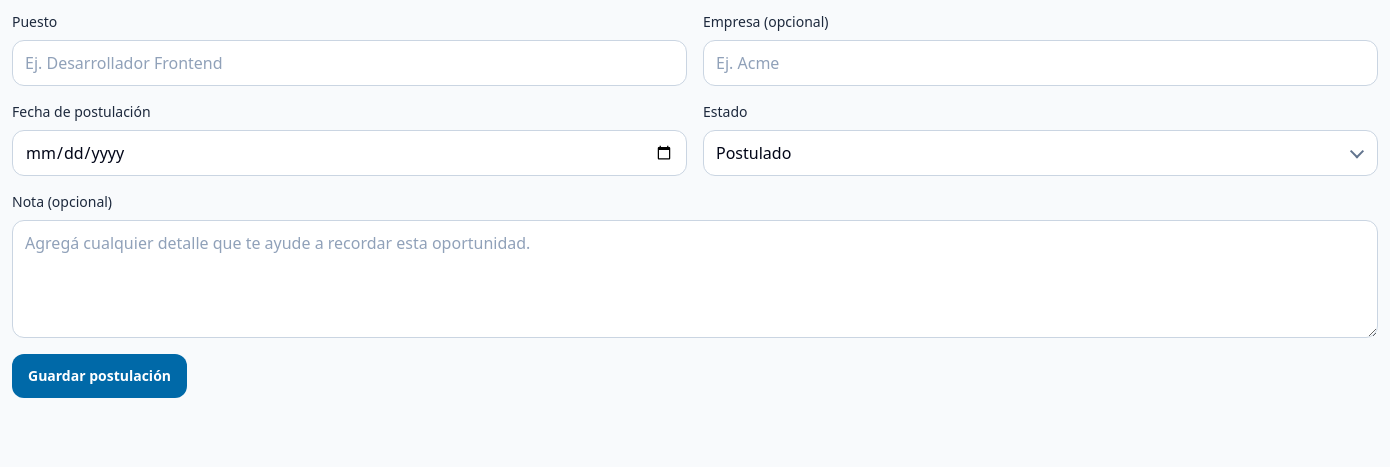
Test: ApplicationForm › communicates duplicate applications in Spanish after valid input
Type "Desarrollador Frontend" into the field labelled "Puesto" at (350, 63), box top-left (12, 40), bottom-right (687, 86)
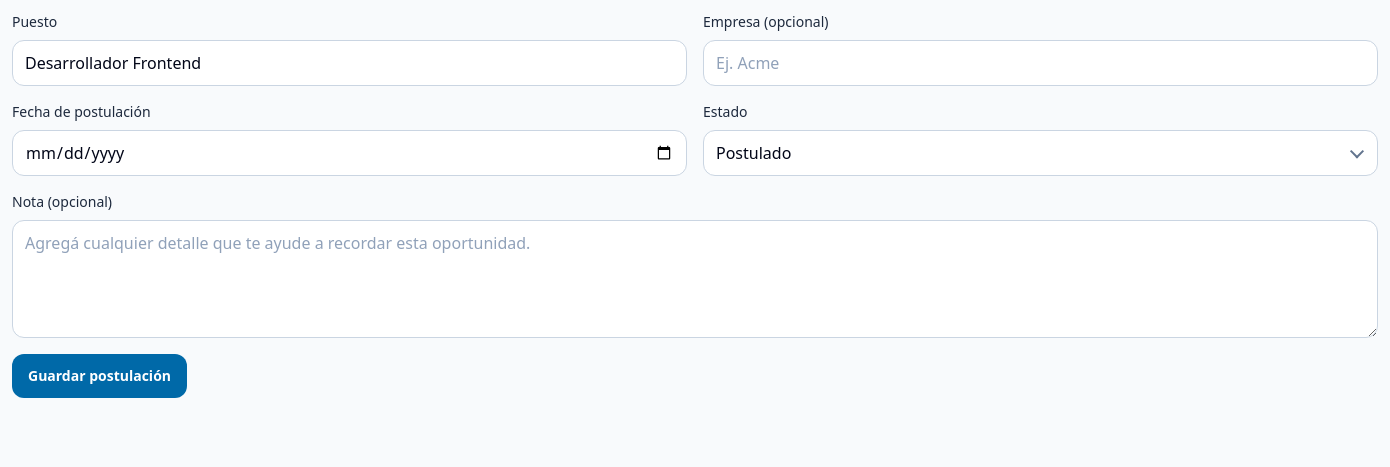
Type "2026-10-20" into the date field labelled "Fecha de postulación" at (350, 153), box top-left (12, 130), bottom-right (687, 176)
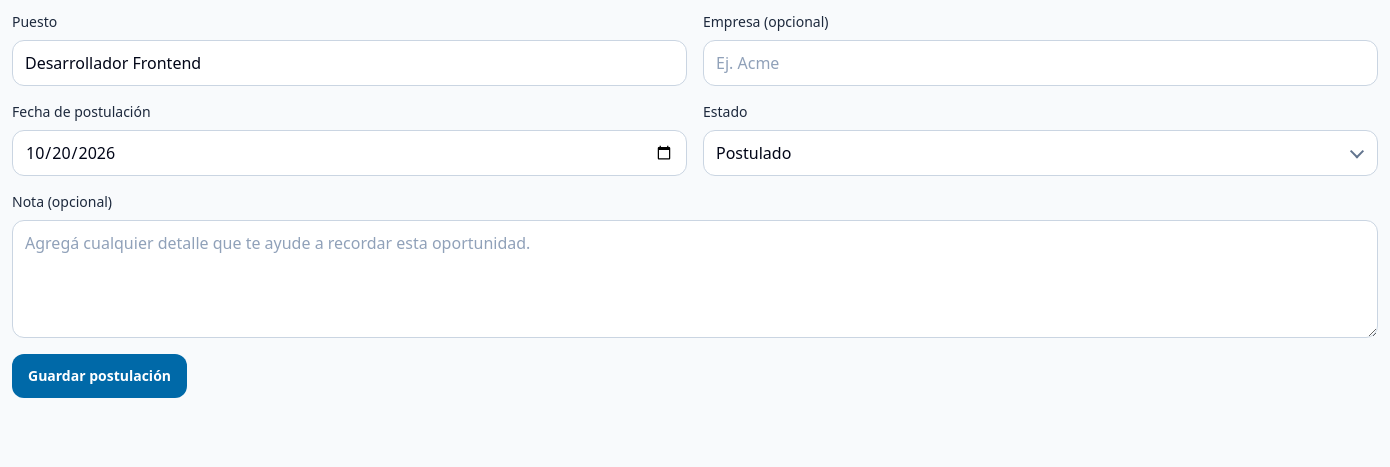
Click the button "Guardar postulación" at (100, 376), box top-left (12, 354), bottom-right (187, 398)
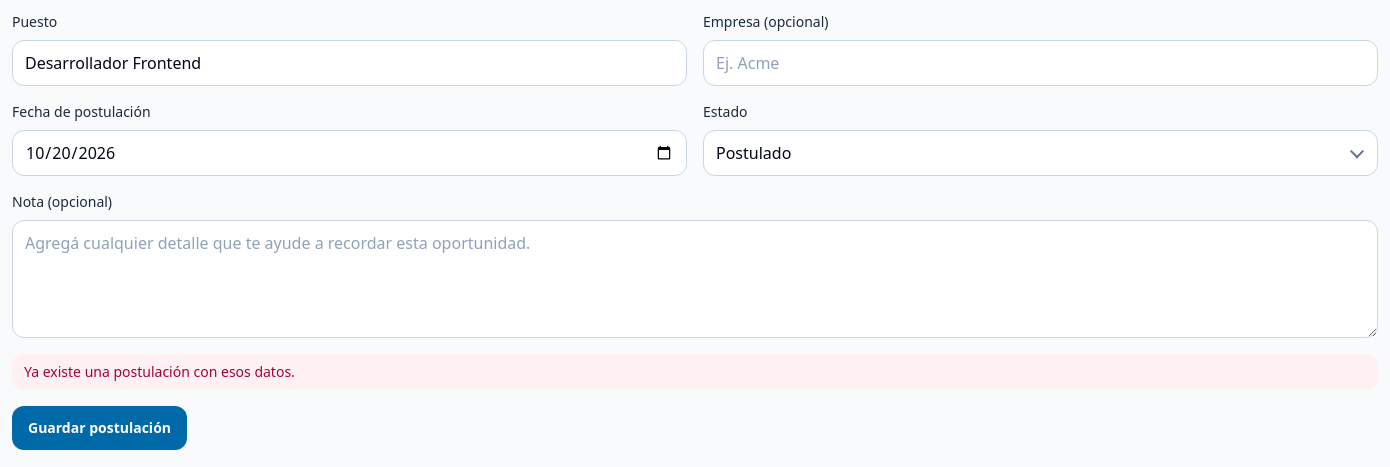
Result: the text "Ya existe una postulación con esos datos." is shown at top-left (12, 354), bottom-right (1378, 390)
